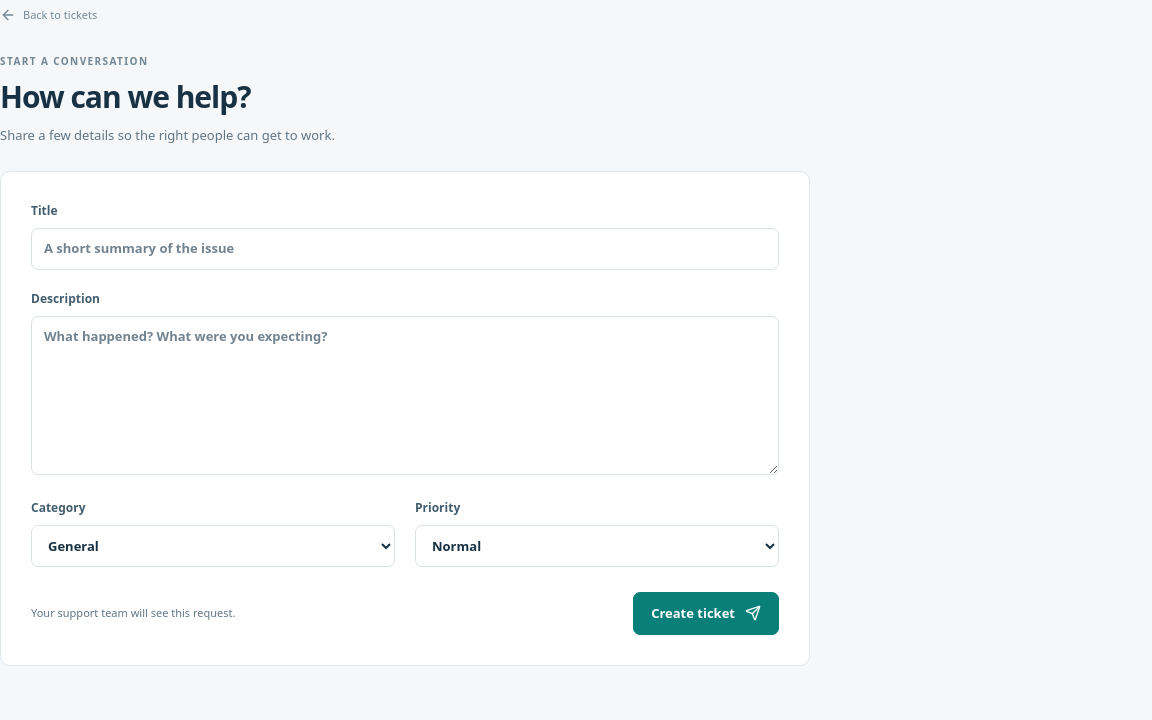
Scenario: shows ticket creation validation errors and then navigates on success
The width and height of the screenshot is (1152, 720).
Type "Account access" into the field labelled "Title" at (405, 249), box [31,228,779,270]
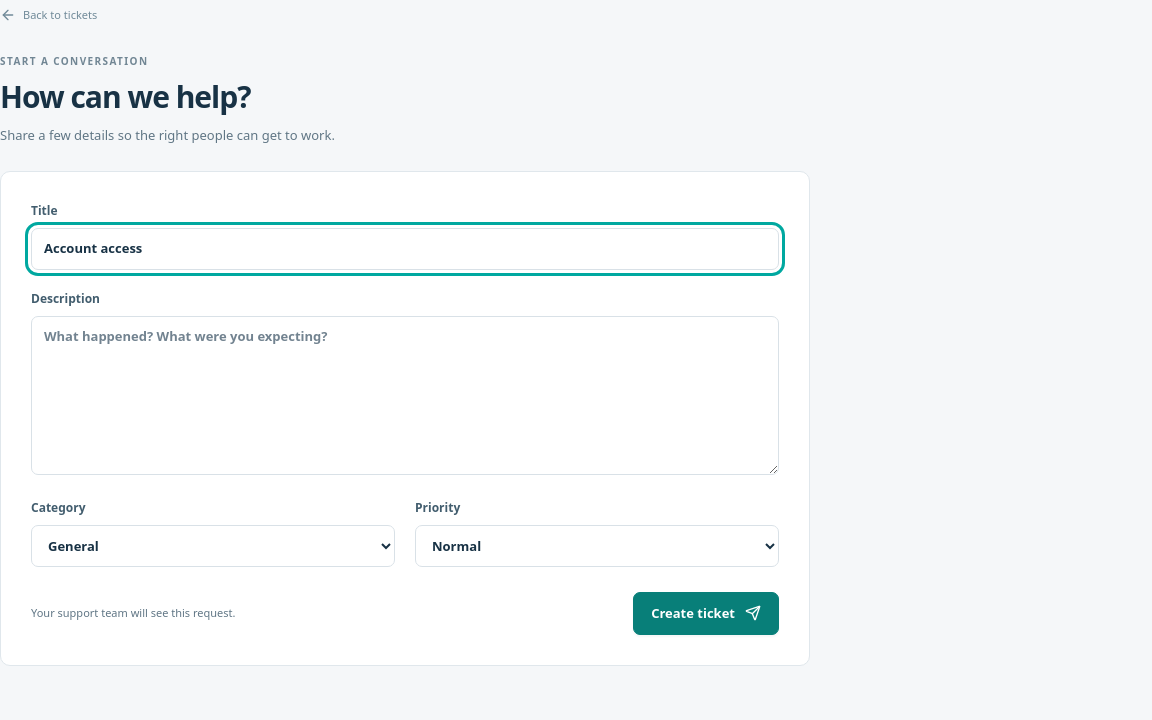
Type "Help me" into the text box labelled "Description" at (405, 395), box [31,316,779,474]
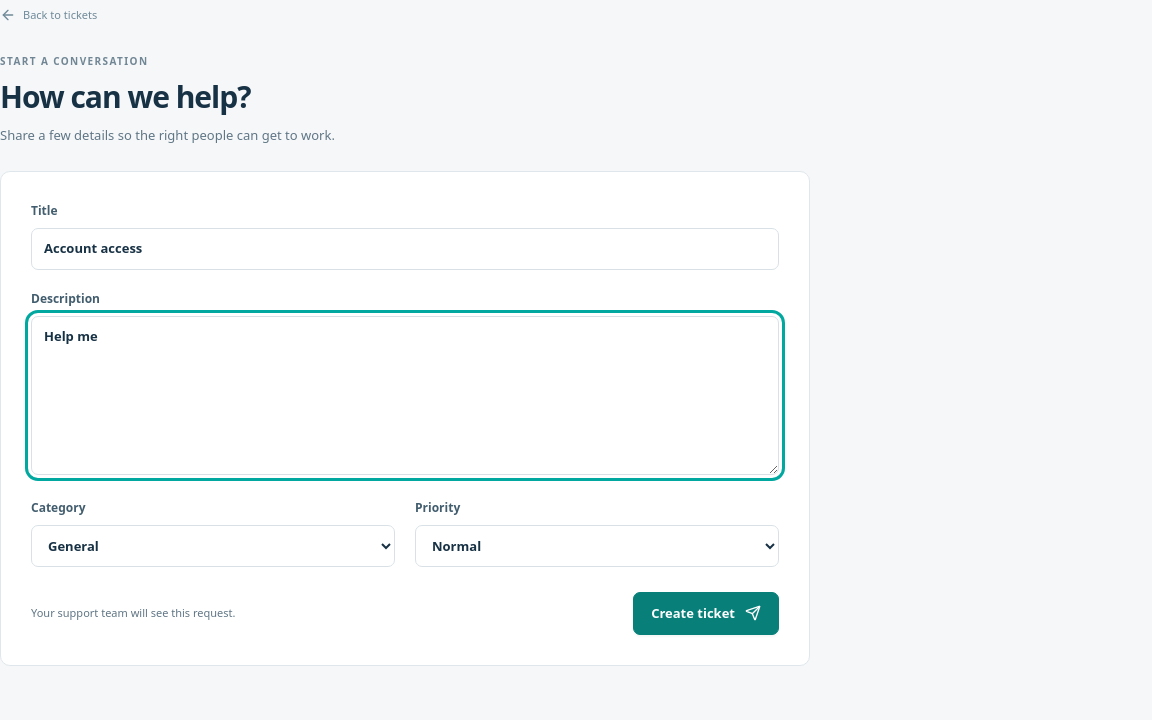
Click the button "Create ticket" at (706, 613), box [633,592,779,635]
(page scrolled)
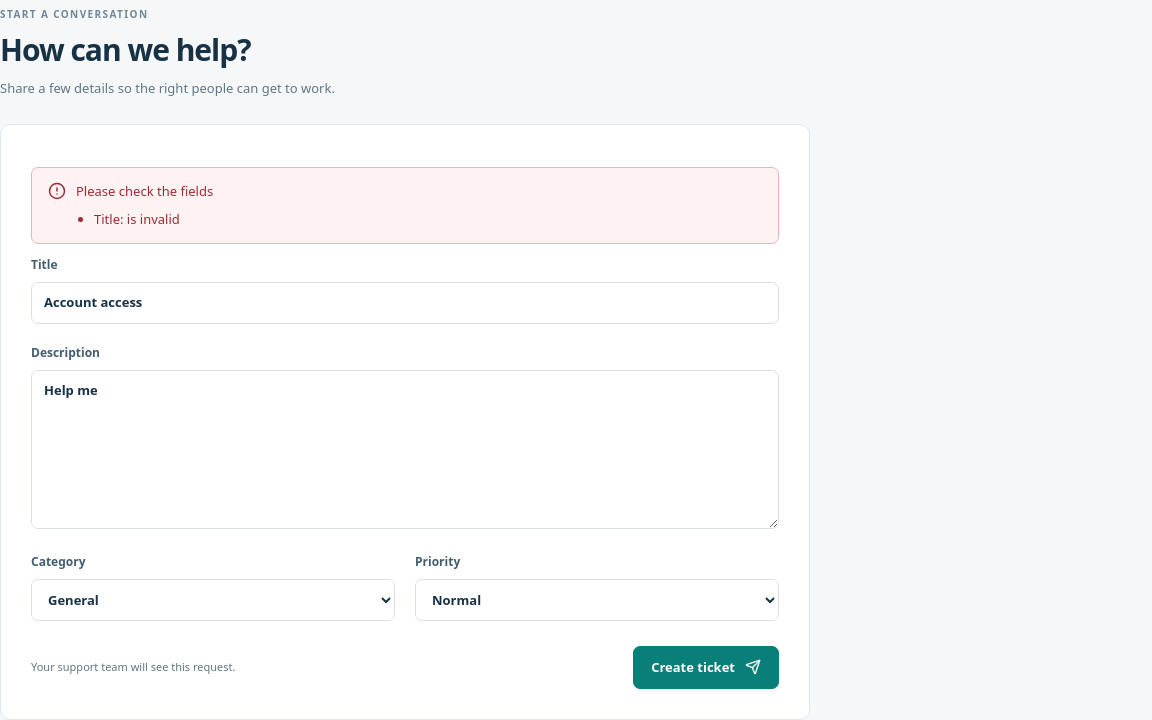
Result: the message shows "Title: is invalid" at [31,167,779,244]
Click the button "Create ticket" at (706, 667), box [633,646,779,689]
(page scrolled)
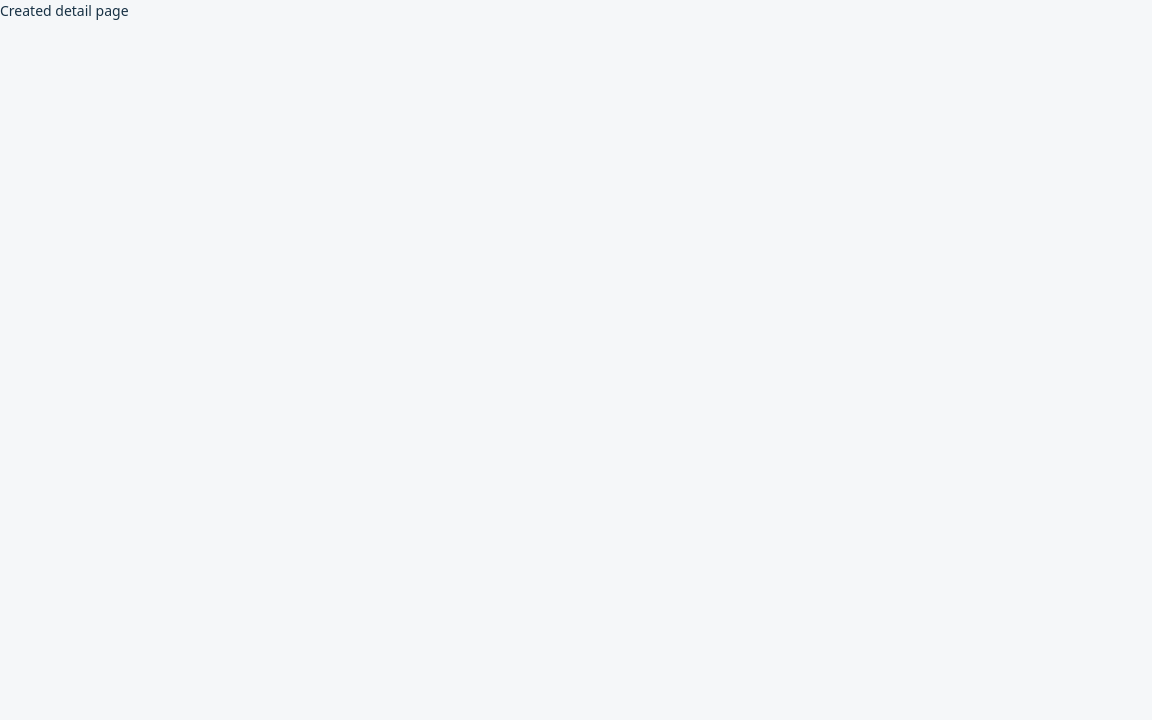
Result: the text "Created detail page" is shown at [0,1,129,20]
